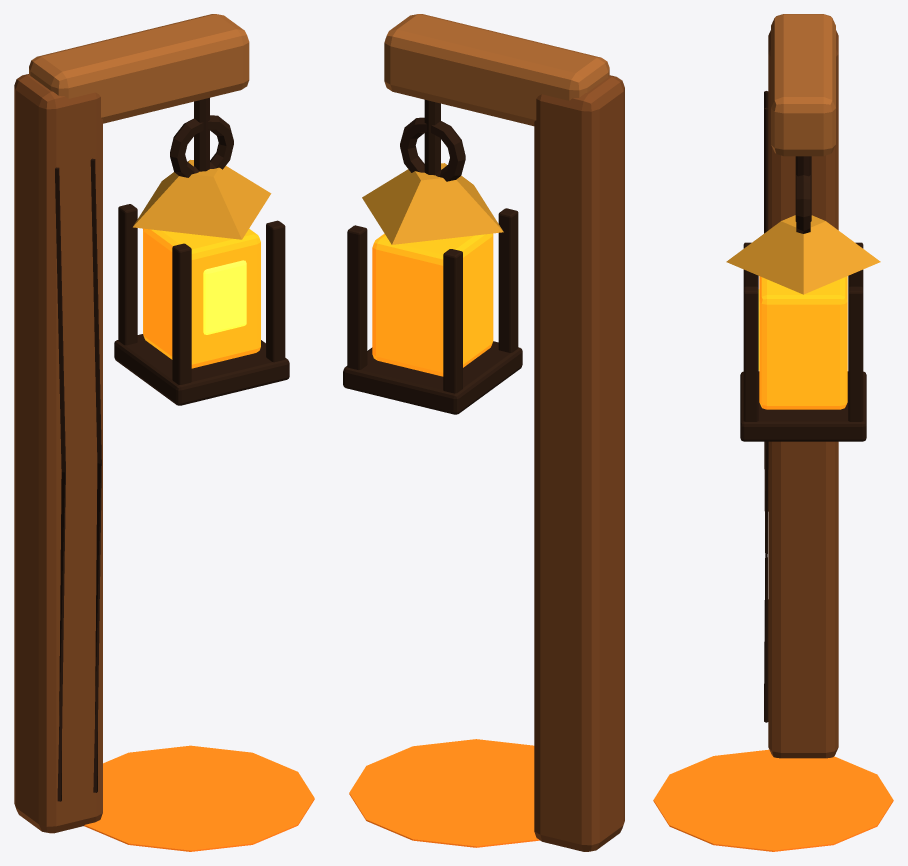
The model's file is forest_lantern_post.glb.
3 renders of one model, left to right at view 1: azimuth 30°, elevation 25°; view 2: azimuth 150°, elevation 25°; view 3: azimuth 270°, elevation 25°, orthographic. The views are drawn at different scales.
Parts seen in each view (by area): view 1: Woodland lantern upright, Lantern warm ground bounce, Woodland lantern bracket, Lantern amber glass, Lantern roof, Lantern bottom, Lantern post grain.001, Lantern post grain, Lantern hot glass inset, Lantern corner, Lantern corner.002, Lantern corner.001 (+2 smaller); view 2: Woodland lantern upright, Lantern warm ground bounce, Woodland lantern bracket, Lantern amber glass, Lantern roof, Lantern bottom, Lantern corner.003, Lantern corner, Lantern corner.001, Lantern hanger, Lantern chain; view 3: Woodland lantern upright, Lantern warm ground bounce, Lantern amber glass, Woodland lantern bracket, Lantern roof, Lantern bottom, Lantern corner.002, Lantern corner.003, Lantern post grain.001, Lantern hanger, Lantern chain.
Boxes of the visible parts, x1,y1,x2,y2 form: Woodland lantern upright: (14,74,102,833); Lantern warm ground bounce: (84,745,314,851); Woodland lantern bracket: (29,14,249,123); Lantern amber glass: (143,228,260,368); Lantern roof: (133,159,271,239); Lantern bottom: (114,334,289,405); Lantern post grain.001: (90,158,101,792); Lantern post grain: (55,167,65,801); Lantern hot glass inset: (203,260,246,334); Lantern corner: (172,243,191,384); Lantern corner.002: (266,220,285,362); Lantern corner.001: (118,204,137,345); Woodland lantern upright: (534,75,624,851); Lantern warm ground bounce: (349,739,539,847); Woodland lantern bracket: (384,14,609,126); Lantern amber glass: (372,233,493,376); Lantern roof: (362,163,503,244); Lantern bottom: (343,341,522,414); Lantern corner.003: (347,225,367,369); Lantern corner: (498,208,518,352); Lantern corner.001: (443,249,462,393); Lantern hanger: (400,117,465,181); Lantern chain: (424,99,440,175); Woodland lantern upright: (768,30,838,758); Lantern warm ground bounce: (653,749,893,851); Lantern amber glass: (759,276,847,409); Woodland lantern bracket: (771,14,835,156); Lantern roof: (726,215,880,294); Lantern bottom: (740,371,866,441); Lantern corner.002: (743,286,758,421); Lantern corner.003: (848,286,863,421); Lantern post grain.001: (764,107,768,722); Lantern hanger: (796,175,810,233); Lantern chain: (795,156,811,221).
Bounding box in the file's own units: 0.57 × 1.62 × 0.48.
